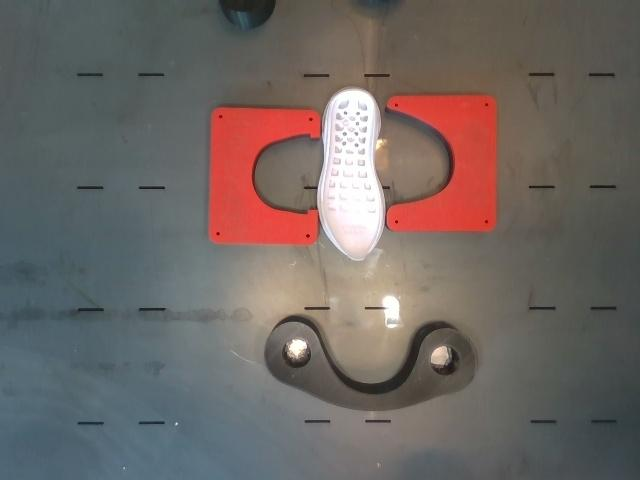shoes: (321, 89, 383, 259)
